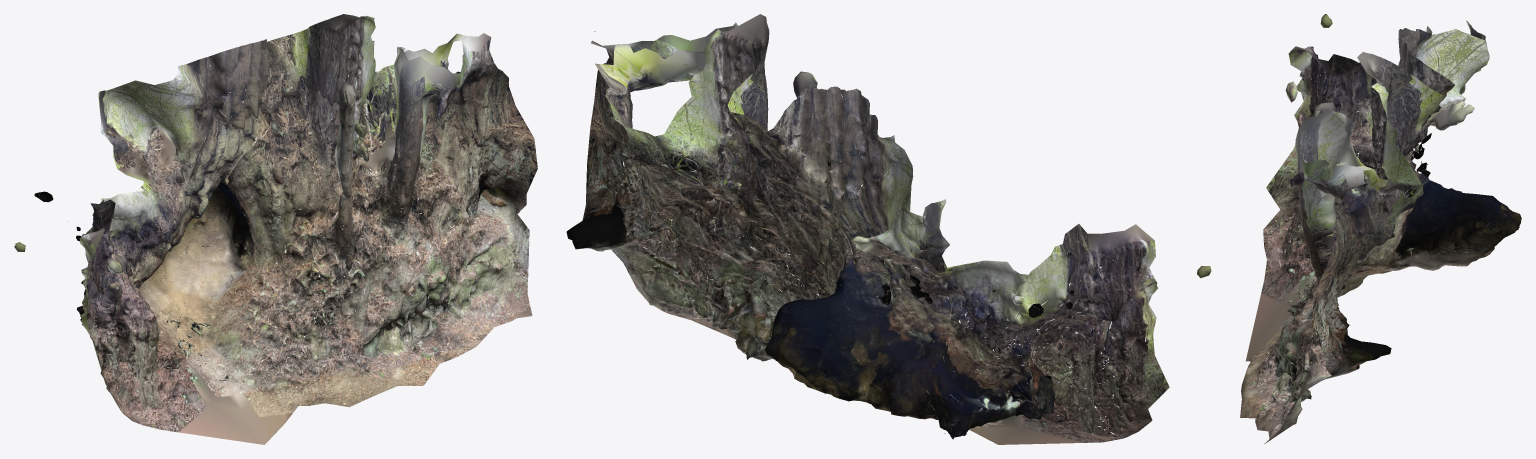
File: treeHole3D_lowPoly.glb
3 views of the same model, side by side, from view 1: azimuth 30°, elevation 25°; view 2: azimuth 150°, elevation 25°; view 3: azimuth 270°, elevation 25° (orthographic). The views are drawn at different scales.
Visible parts, largest first — view 1: treehole_lowPoly; view 2: treehole_lowPoly; view 3: treehole_lowPoly.
Boxes of the visible parts, bbox=[...] form: treehole_lowPoly: bbox=[14, 14, 537, 444]; treehole_lowPoly: bbox=[566, 14, 1211, 444]; treehole_lowPoly: bbox=[1240, 14, 1521, 443].
Bounding box in the file's own units: 40.37 × 26.68 × 17.99.
Materials: 1 (1 with a texture image).
